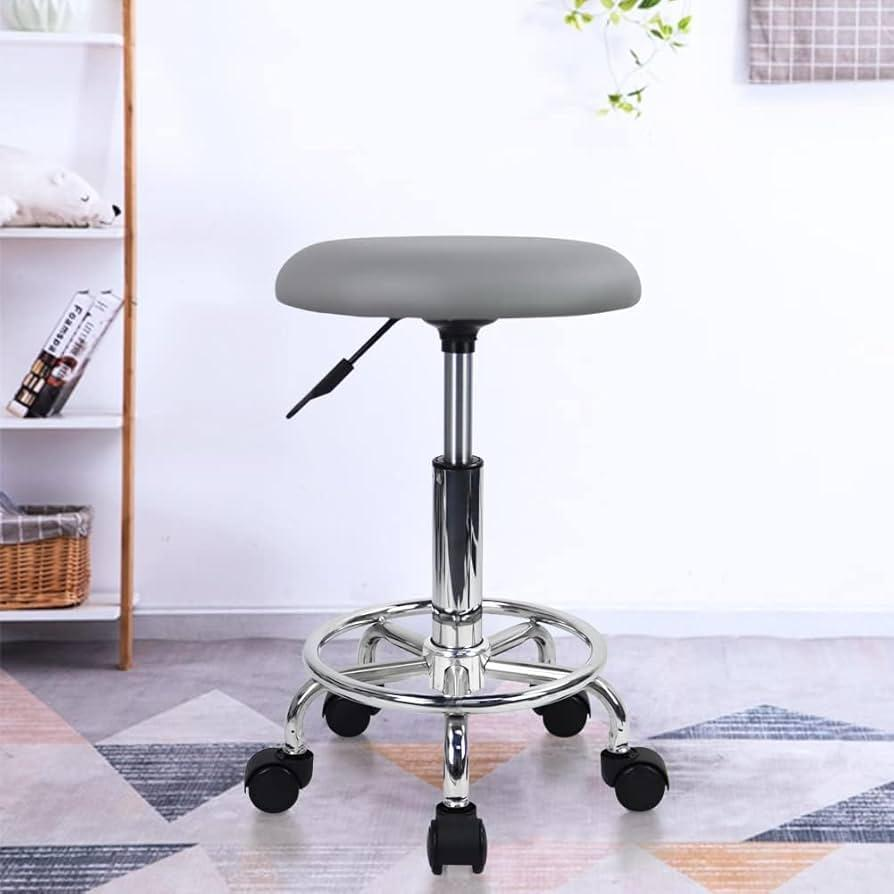stool: (233, 230, 706, 870)
